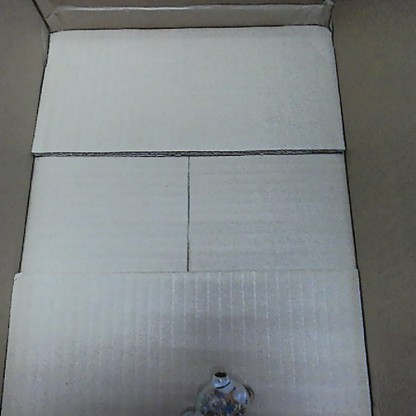whitefish: (181, 365, 256, 414)
